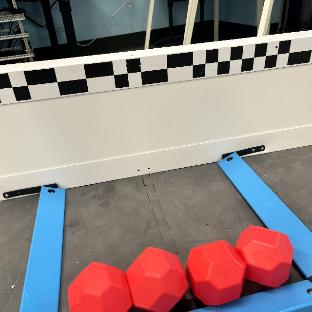V5_RED: (187, 226, 292, 306), (68, 248, 184, 312)
